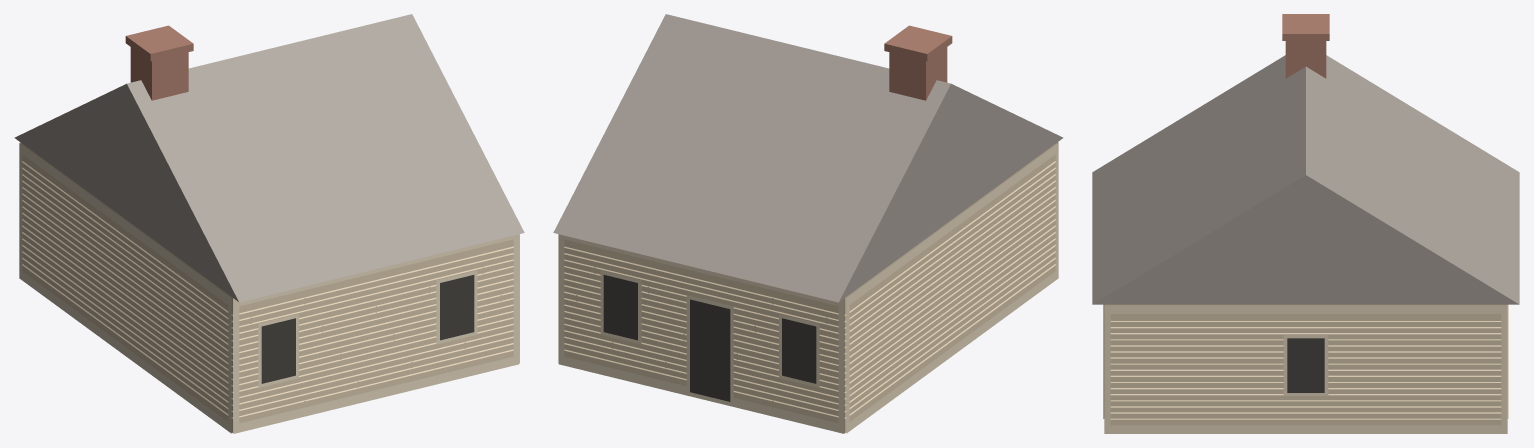
The model's file is recon_1835_blk_randolph_franklin_d4_03__inferred_1835.glb.
3 views of the same model, side by side, from view 1: azimuth 30°, elevation 25°; view 2: azimuth 150°, elevation 25°; view 3: azimuth 270°, elevation 25° (orthographic). The views are drawn at different scales.
Parts seen in each view (by area): view 1: recon_1835_blk_randolph_franklin_d4_03__inferred_1835; view 2: recon_1835_blk_randolph_franklin_d4_03__inferred_1835; view 3: recon_1835_blk_randolph_franklin_d4_03__inferred_1835.
Boxes of the visible parts, left/top/right/bottom form: recon_1835_blk_randolph_franklin_d4_03__inferred_1835: left=14, top=14, right=524, bottom=433; recon_1835_blk_randolph_franklin_d4_03__inferred_1835: left=553, top=14, right=1063, bottom=433; recon_1835_blk_randolph_franklin_d4_03__inferred_1835: left=1092, top=14, right=1519, bottom=433.
Size of the model in its own units: 6.59 by 6.7 by 8.89.
